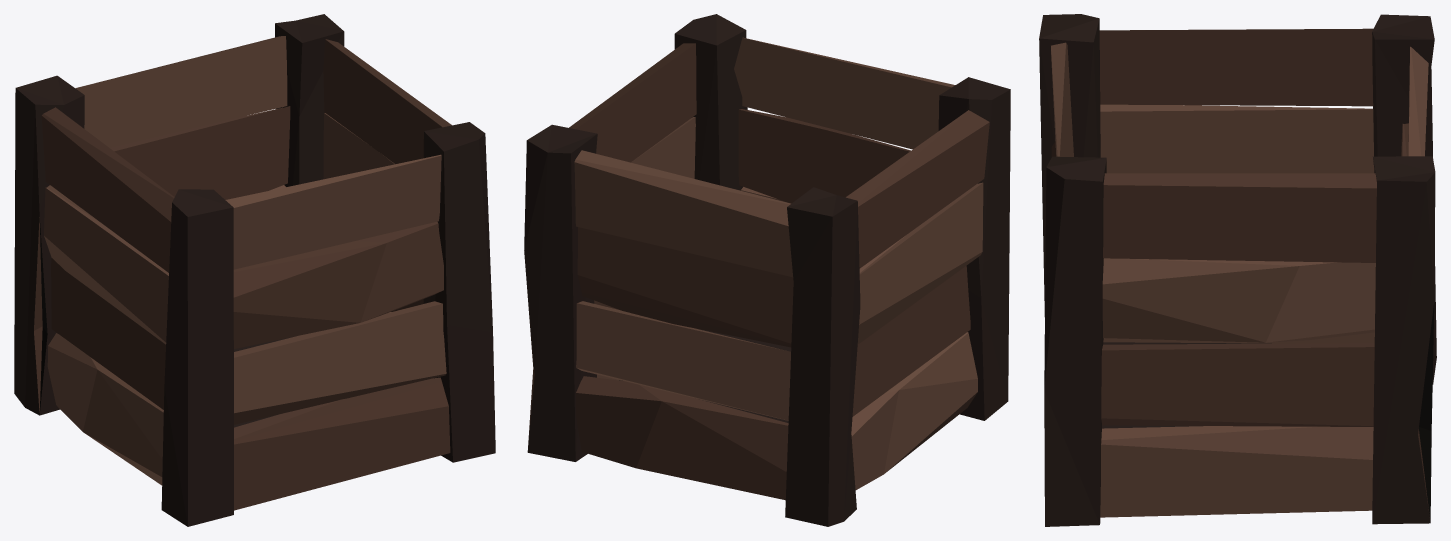
The model's file is Crate_02.glb.
The picture shows the model from 3 angles, left to right: view 1: azimuth 30°, elevation 25°; view 2: azimuth 150°, elevation 25°; view 3: azimuth 270°, elevation 25°; orthographic projection. The views are drawn at different scales.
Visible parts, largest first — view 1: Crate_02; view 2: Crate_02; view 3: Crate_02.
Boxes of the visible parts, x1,y1,x2,y2 form: Crate_02: (14, 14, 495, 526); Crate_02: (524, 14, 1010, 526); Crate_02: (1039, 14, 1436, 526).
Size of what is drawn, in the model's own units: 0.7471 by 0.7305 by 0.7505.
1 material, 1 textured.
